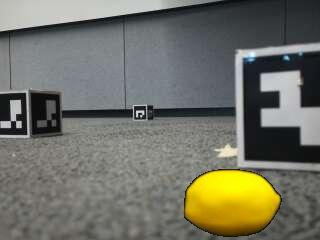lemon: (185, 169, 280, 234)
